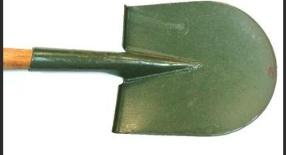PELLE: (2, 0, 279, 143)
